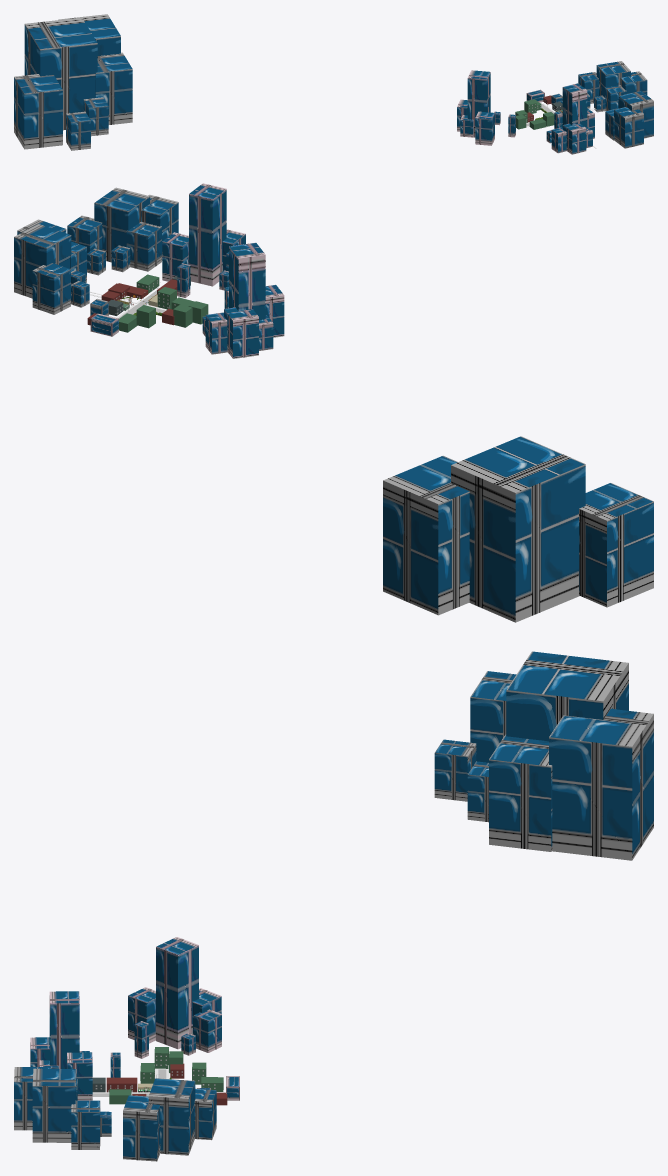
The model's file is ====ExteriorMK2====__ 1.fbx.
3 renders of one model, top to bottom at view 1: azimuth 30°, elevation 25°; view 2: azimuth 150°, elevation 25°; view 3: azimuth 270°, elevation 25°, orthographic. The views are drawn at different scales.
Parts seen in each view (by area): view 1: Building_set_3__1_, Building_set_2, Building_set_2__1_, Building_set_3, Building_set_3__2_; view 2: Building_set_3__1_, Building_set_3__2_, Building_set_2, Building_set_3, Building_set_2__1_; view 3: Building_set_3__1_, Building_set_2, Building_set_3, Building_set_3__2_, Building_set_2__1_.
Part boxes in pixels (<box>): Building_set_3__1_: <box>14,14,132,150</box>; Building_set_2: <box>457,70,515,145</box>; Building_set_2__1_: <box>546,83,594,154</box>; Building_set_3: <box>578,61,647,112</box>; Building_set_3__2_: <box>605,91,653,148</box>; Building_set_3__1_: <box>383,436,653,622</box>; Building_set_3__2_: <box>67,187,178,275</box>; Building_set_2: <box>202,242,284,358</box>; Building_set_3: <box>14,219,89,314</box>; Building_set_2__1_: <box>162,183,245,297</box>; Building_set_3__1_: <box>434,651,653,860</box>; Building_set_2: <box>128,937,221,1058</box>; Building_set_3: <box>123,1078,216,1161</box>; Building_set_3__2_: <box>14,1067,111,1149</box>; Building_set_2__1_: <box>30,991,120,1100</box>.
Size of what is drawn, in the model's own units: 111219 by 17461 by 75343.
